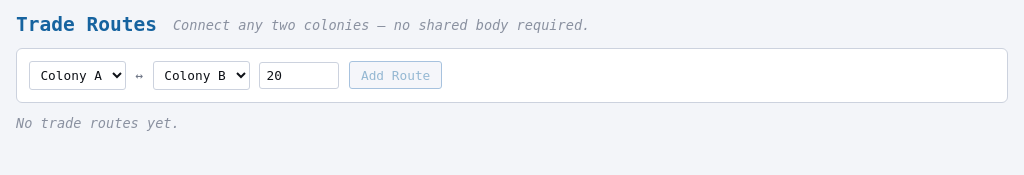
Test: TradeView (issue #363: cross-body trade route UI) › surfaces the rejection reason when adding a route is refused (empty events)
Step 1. Select "Alpha" in the dropdown with test id "colony-a-select" → (77, 75), box left=29, top=61, right=126, bottom=90
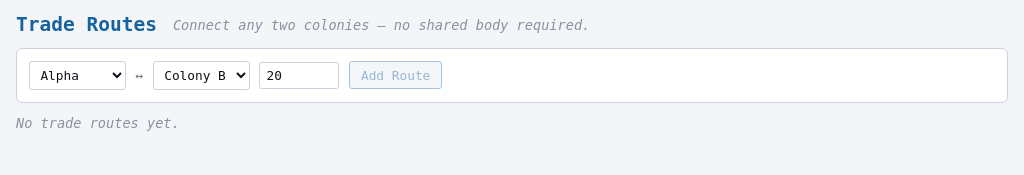
Step 2. Select "Beta" in the dropdown with test id "colony-b-select" → (201, 75), box left=153, top=61, right=250, bottom=90
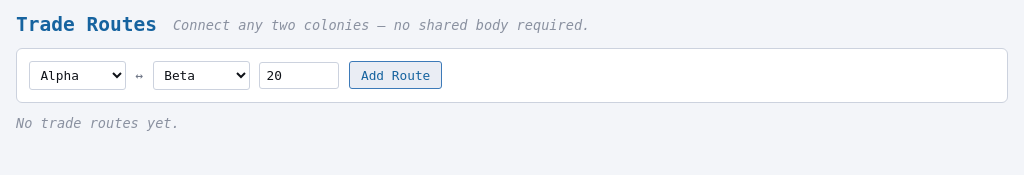
Step 3. Click the button with test id "btn-add-route" → (396, 75), box left=349, top=61, right=442, bottom=89
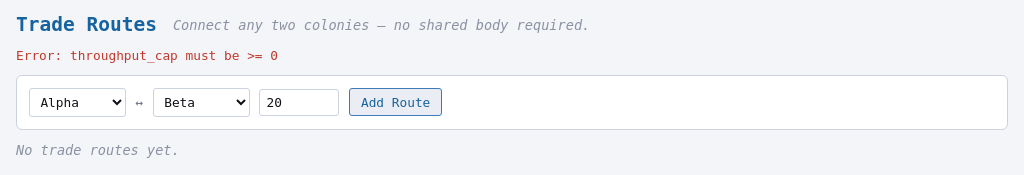
Result: the text with test id "trade-error" shows "throughput_cap must be >= 0" at left=16, top=48, right=278, bottom=63
